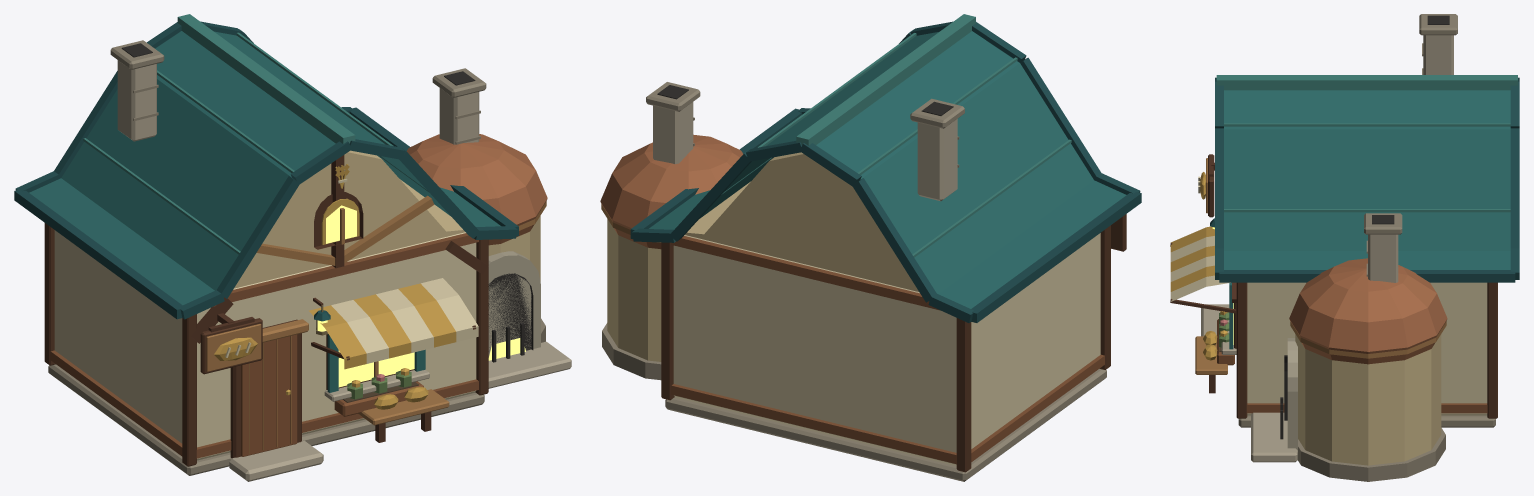
The model's file is bakery.glb.
3 views of the same model, side by side, from view 1: azimuth 30°, elevation 25°; view 2: azimuth 150°, elevation 25°; view 3: azimuth 270°, elevation 25° (orthographic). The views are drawn at different scales.
Parts seen in each view (by area): view 1: bakery; view 2: bakery; view 3: bakery.
Part boxes in pixels (box(x1,y1,x2,y2)): bakery: box(14, 14, 571, 481); bakery: box(600, 14, 1141, 481); bakery: box(1170, 14, 1519, 481).
Bounding box in the file's own units: 8.77 × 6.33 × 6.62.
